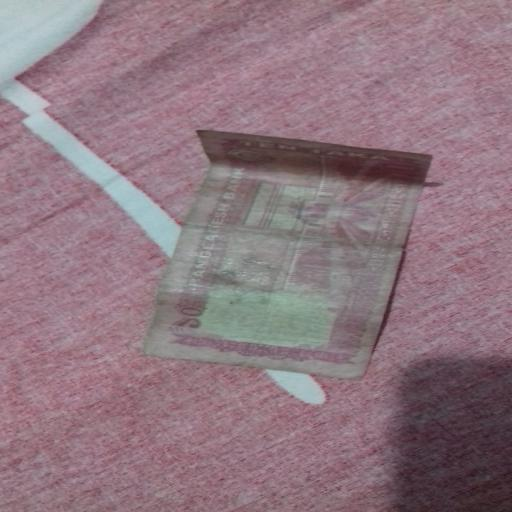10taka: (145, 131, 431, 378)
